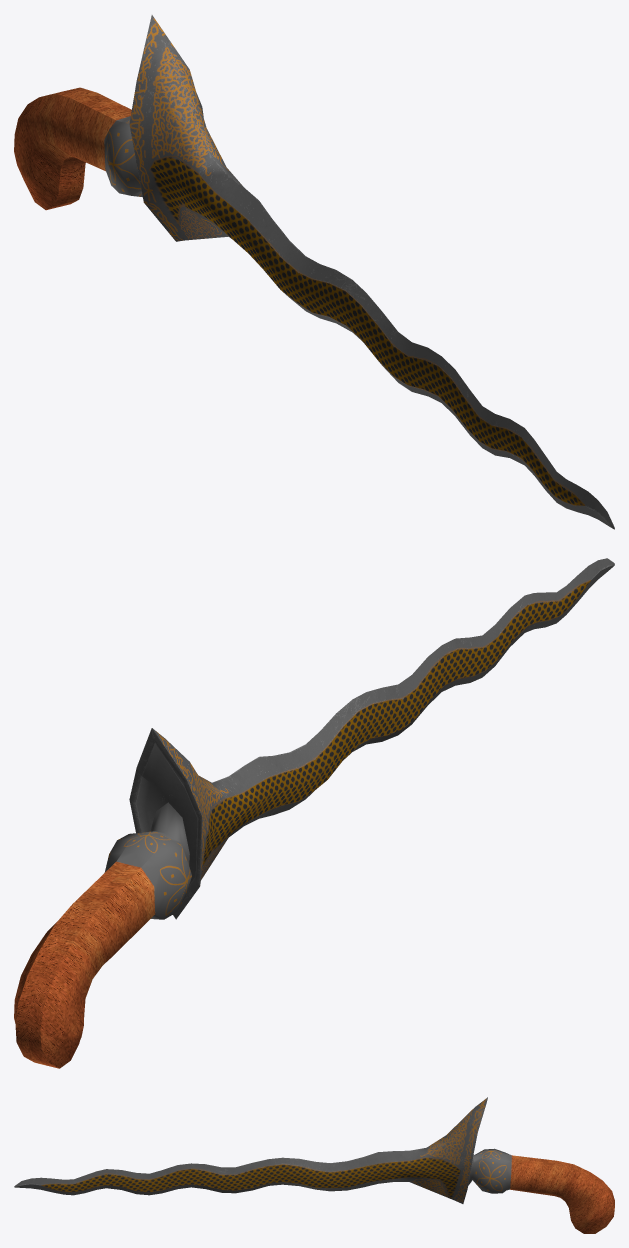
The picture shows the model from 3 angles, top to bottom: view 1: azimuth 30°, elevation 25°; view 2: azimuth 150°, elevation 25°; view 3: azimuth 270°, elevation 25°; orthographic projection. The views are drawn at different scales.
Visible parts, largest first — view 1: Pisau_Keris_Jawa; view 2: Pisau_Keris_Jawa; view 3: Pisau_Keris_Jawa.
Boxes of the visible parts, bbox=[...] form: Pisau_Keris_Jawa: bbox=[14, 15, 614, 529]; Pisau_Keris_Jawa: bbox=[14, 558, 614, 1068]; Pisau_Keris_Jawa: bbox=[14, 1097, 614, 1233].
Size of the model in its own units: 0.007 by 0.0229 by 0.0931.
1 material, 1 textured.
